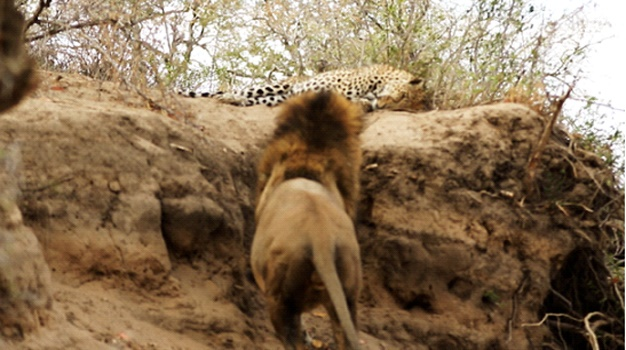Cheetah: (204, 68, 429, 117)
lion: (248, 85, 373, 350)
